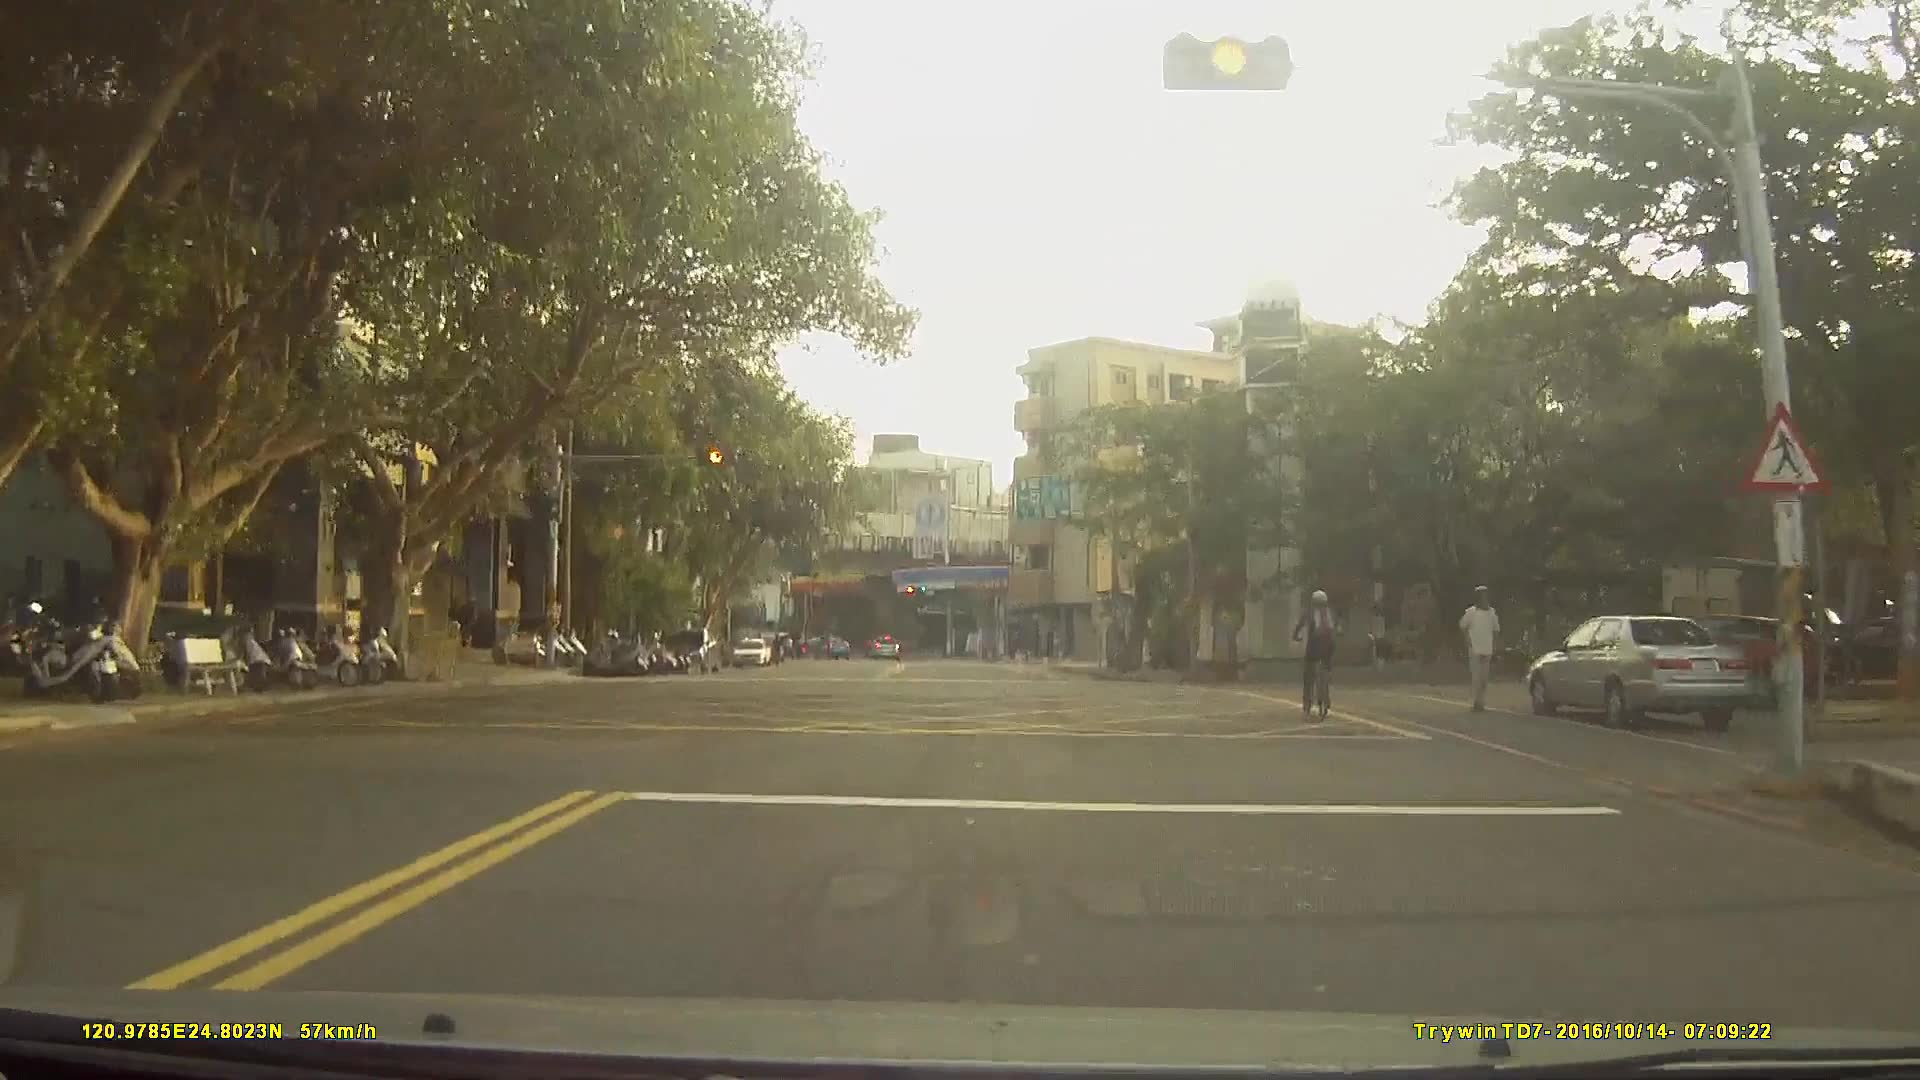pedestrian: (1449, 583, 1512, 720), (443, 598, 467, 653)
rider: (1292, 589, 1343, 718)
vehicle: (1526, 612, 1755, 728), (663, 624, 720, 673), (731, 634, 769, 666), (810, 636, 850, 659), (864, 633, 899, 659)
